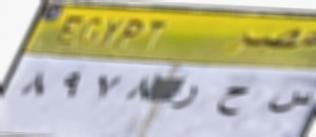7: (89, 73, 123, 99)
7aa: (215, 82, 255, 119)
8: (20, 70, 52, 102), (125, 74, 152, 106)
9: (61, 68, 86, 102)
raa: (172, 81, 206, 112)
seen: (263, 85, 312, 119)
